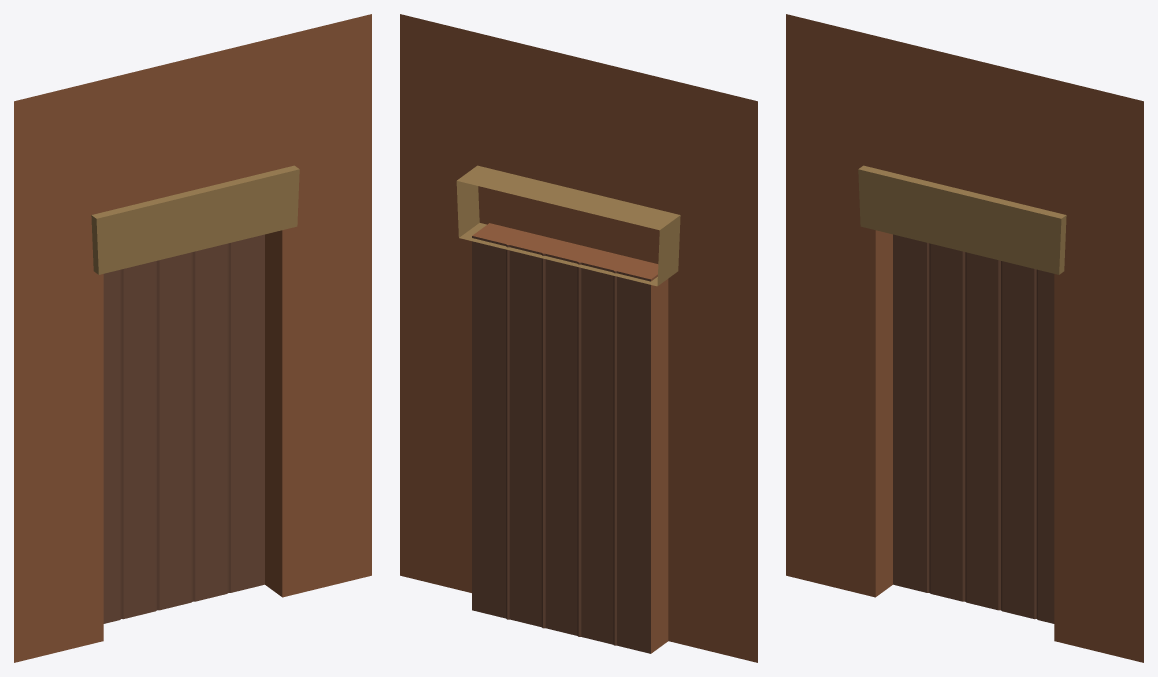
File: DoorD.fbx
3 views of the same model, side by side, from view 1: azimuth 30°, elevation 25°; view 2: azimuth 150°, elevation 25°; view 3: azimuth 330°, elevation 25° (orthographic).
Visible parts, largest first — view 1: DoorD; view 2: DoorD; view 3: DoorD.
Part boxes in pixels (left/top/right/bottom): DoorD: left=14, top=14, right=371, bottom=662; DoorD: left=400, top=14, right=757, bottom=662; DoorD: left=786, top=14, right=1143, bottom=662.
Bounding box in the file's own units: 200 × 300 × 25.12.
